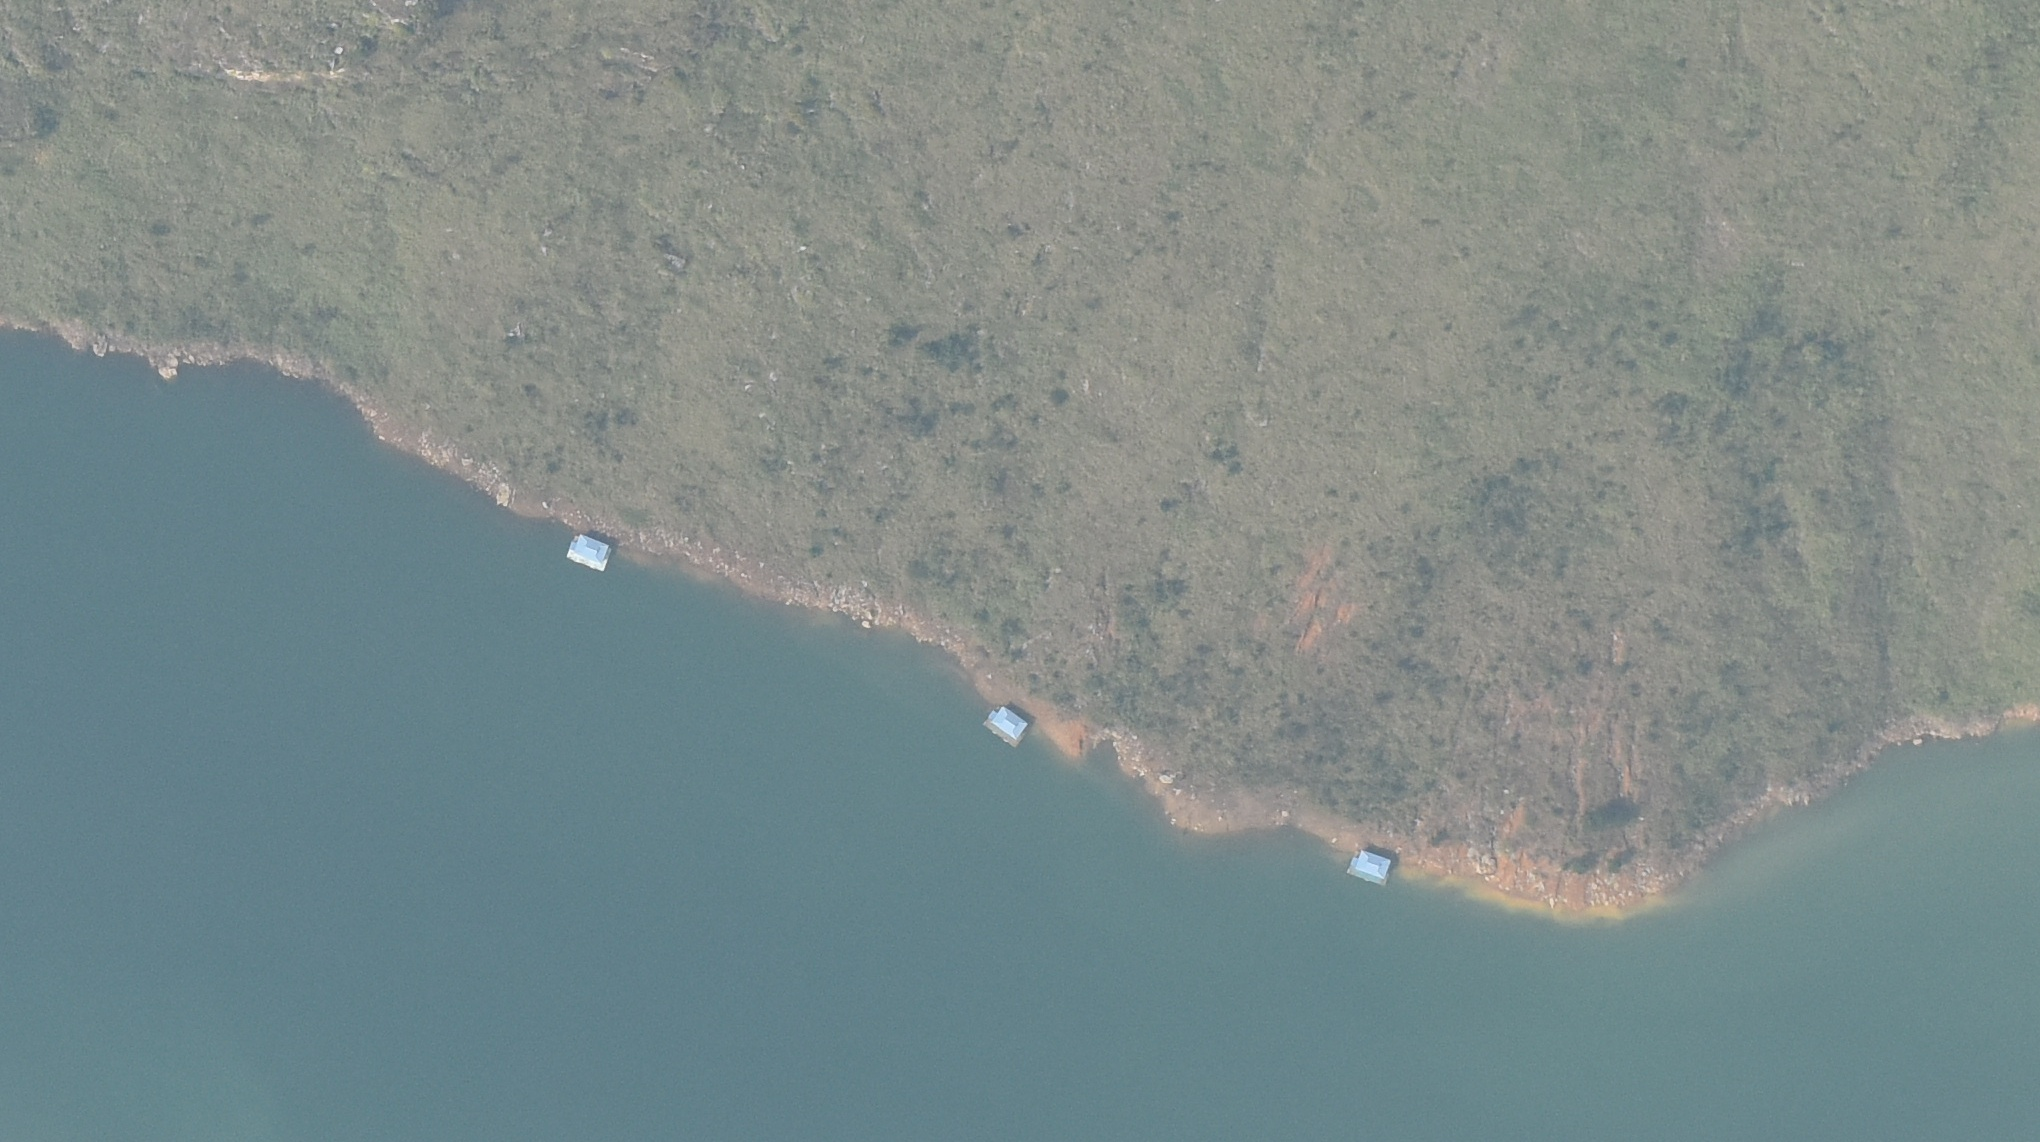prefabricated-house: (1341, 841, 1405, 882), (988, 702, 1033, 747), (566, 530, 614, 572)
